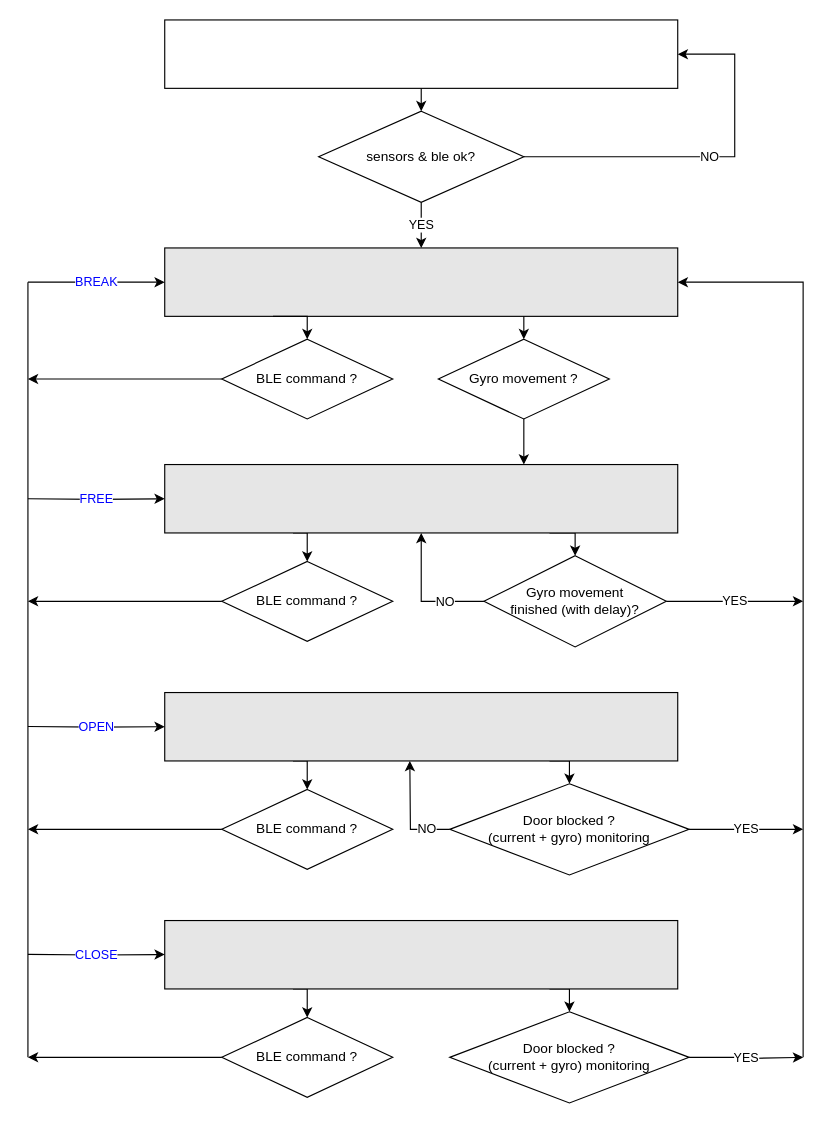
Image size: 832x1123. Some labels were removed from this diagram. Here are the shapes that lost their labels. From the top down, the centre of each, then its label:
the point at 421,53: StartUp State
the point at 421,281: Braked State
the point at 421,498: Free State
the point at 421,726: Opening State
the point at 421,954: Closing State
